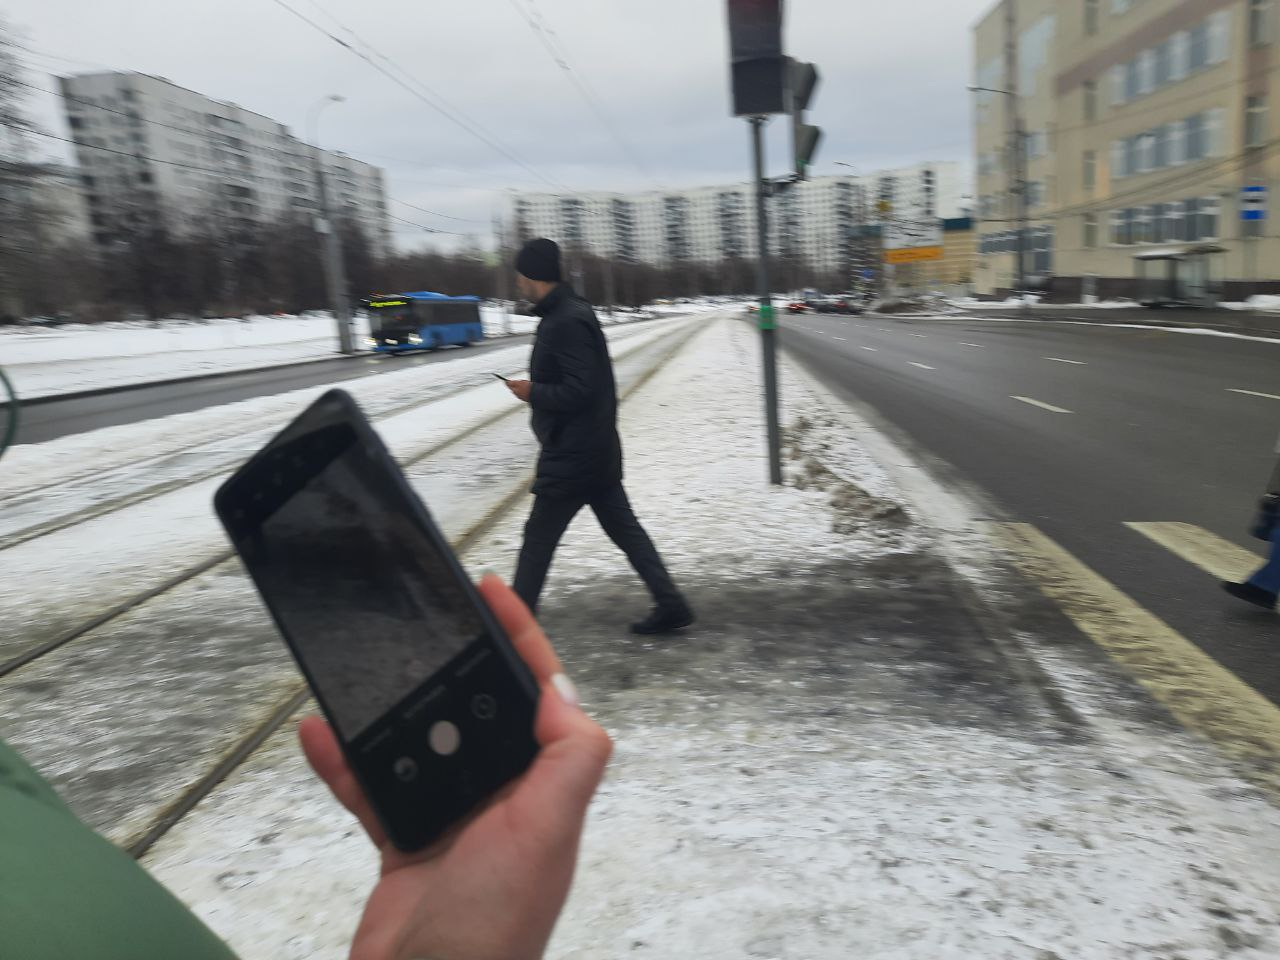sombie: (483, 232, 725, 645)
